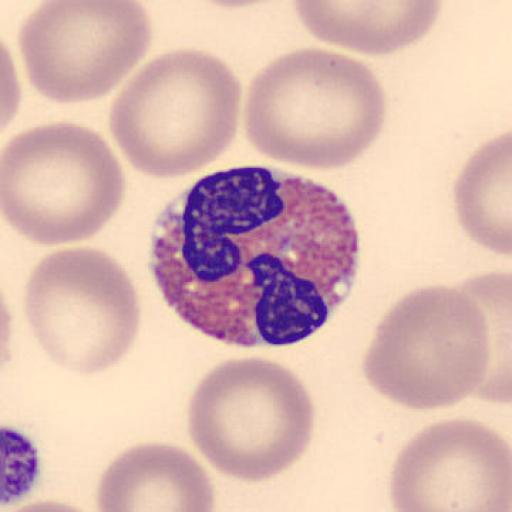Platelet: (0, 422, 47, 510)
RBC: (242, 44, 390, 172), (107, 48, 241, 180), (188, 356, 317, 486), (362, 282, 491, 412), (2, 119, 126, 249), (22, 245, 142, 377), (15, 0, 153, 106), (388, 416, 511, 512), (95, 440, 216, 512), (448, 270, 512, 406), (292, 0, 443, 56), (452, 130, 512, 258), (469, 267, 512, 407), (0, 36, 21, 139), (0, 496, 108, 512), (0, 293, 14, 370), (189, 0, 285, 10)
WBC: (145, 162, 366, 348)
